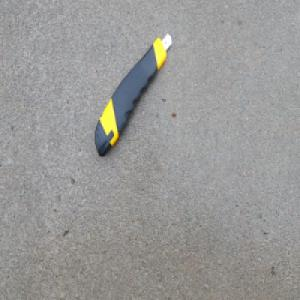Cutter: (94, 31, 173, 159)
